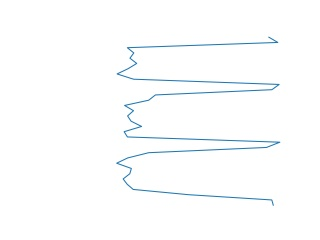majorRiverChannelBar: (115, 38, 281, 206)
